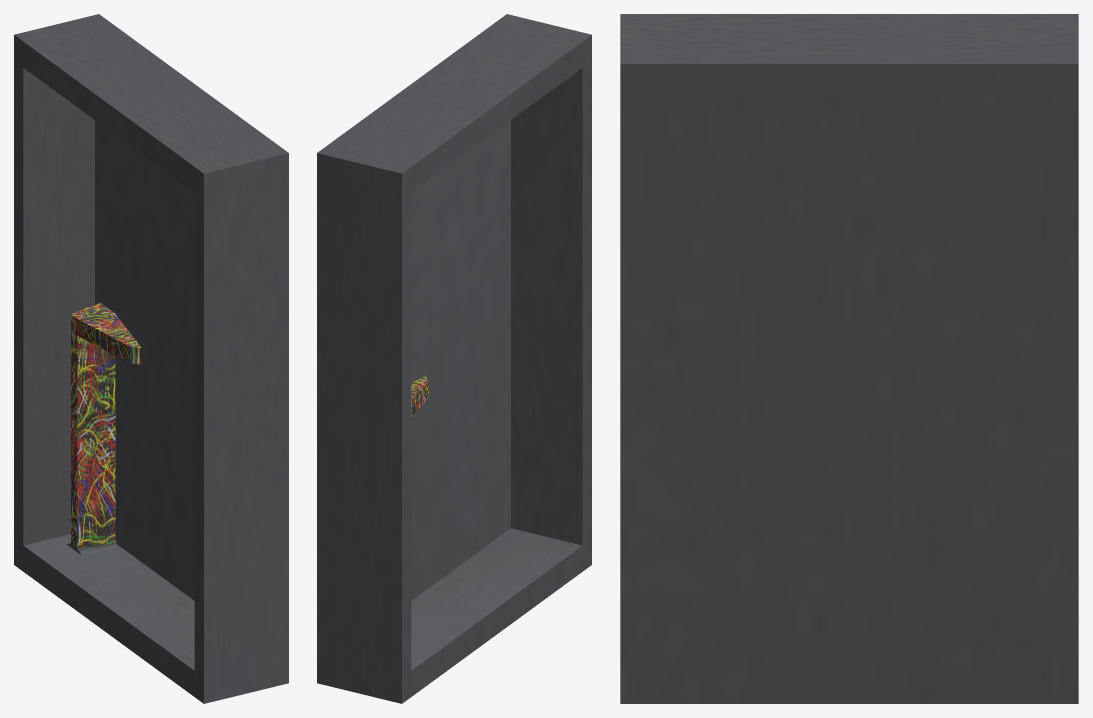
The model's file is FuseBox.fbx.
3 renders of one model, left to right at view 1: azimuth 30°, elevation 25°; view 2: azimuth 150°, elevation 25°; view 3: azimuth 270°, elevation 25°, orthographic. The views are drawn at different scales.
Visible parts, largest first — view 1: pCube11; view 2: pCube11; view 3: pCube11.
Part boxes in pixels (x1,y1,x2,y2): pCube11: (14, 14, 288, 703); pCube11: (317, 14, 591, 703); pCube11: (620, 14, 1078, 703).
Size of the model in its own units: 0.6308 by 3.76 by 2.44.
